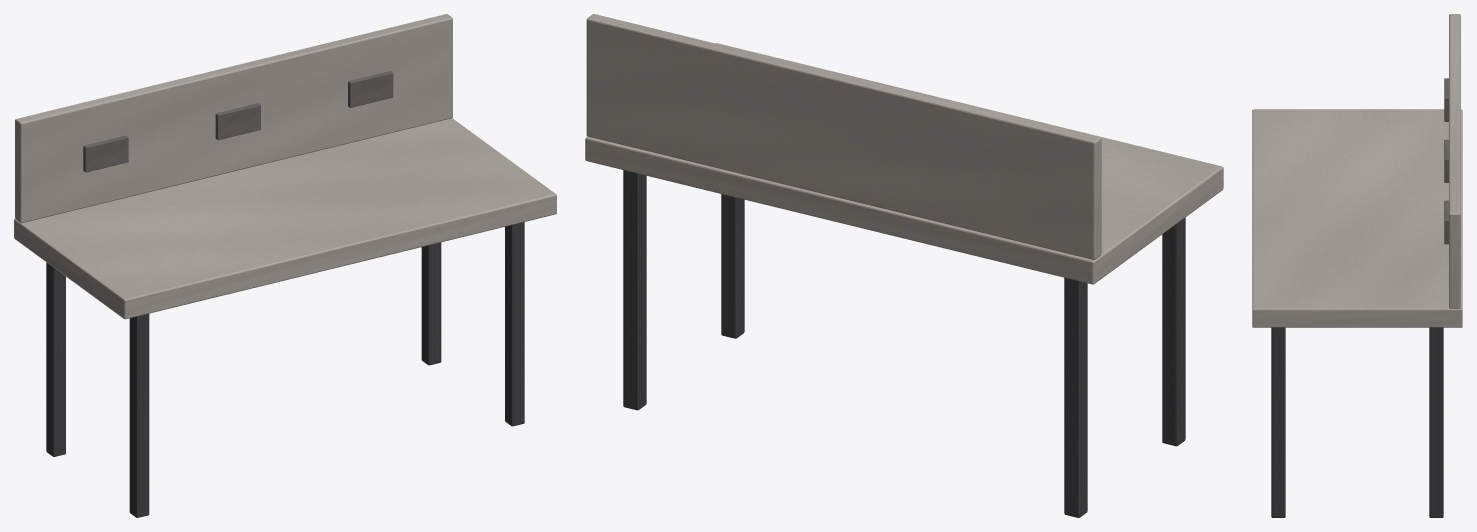
Rendered from cleanroom_workstation.glb.
The picture shows the model from 3 angles, left to right: view 1: azimuth 30°, elevation 25°; view 2: azimuth 150°, elevation 25°; view 3: azimuth 270°, elevation 25°; orthographic projection. The views are drawn at different scales.
Visible parts, largest first — view 1: MESH_MAT_Painted_Ivory.171, MESH_MAT_Dark_Metal.215, MESH_MAT_Control_Blue.129; view 2: MESH_MAT_Painted_Ivory.171, MESH_MAT_Dark_Metal.215; view 3: MESH_MAT_Painted_Ivory.171, MESH_MAT_Dark_Metal.215, MESH_MAT_Control_Blue.129.
Part boxes in pixels (left/top/right/bottom): MESH_MAT_Painted_Ivory.171: left=14, top=14, right=556, bottom=319; MESH_MAT_Dark_Metal.215: left=46, top=222, right=524, bottom=517; MESH_MAT_Control_Blue.129: left=83, top=71, right=393, bottom=172; MESH_MAT_Painted_Ivory.171: left=585, top=14, right=1223, bottom=284; MESH_MAT_Dark_Metal.215: left=623, top=170, right=1185, bottom=517; MESH_MAT_Painted_Ivory.171: left=1252, top=14, right=1462, bottom=327; MESH_MAT_Dark_Metal.215: left=1271, top=327, right=1443, bottom=517; MESH_MAT_Control_Blue.129: left=1444, top=78, right=1448, bottom=244.
Size of the model in its own units: 1.8 by 1.32 by 0.8.
3 materials, 3 textured.
